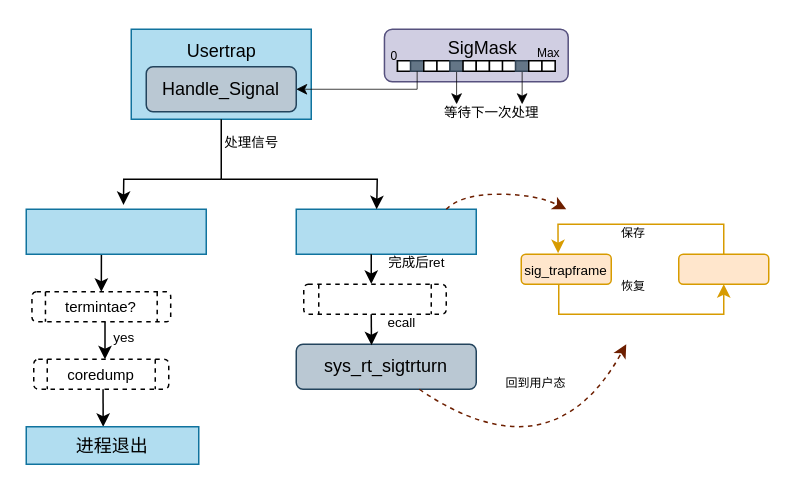
The diagram is 795 pixels wide and 491 high, and some of its shapes have lost their labels. The shapes that lost their labels are listed below. From the top down, each one's centre as x and y in pixels, then its label:
At pixel 115 231: "default handler".
At pixel 385 231: "user handler".
At pixel 723 268: "context".
At pixel 374 298: "sig_trampoline".
